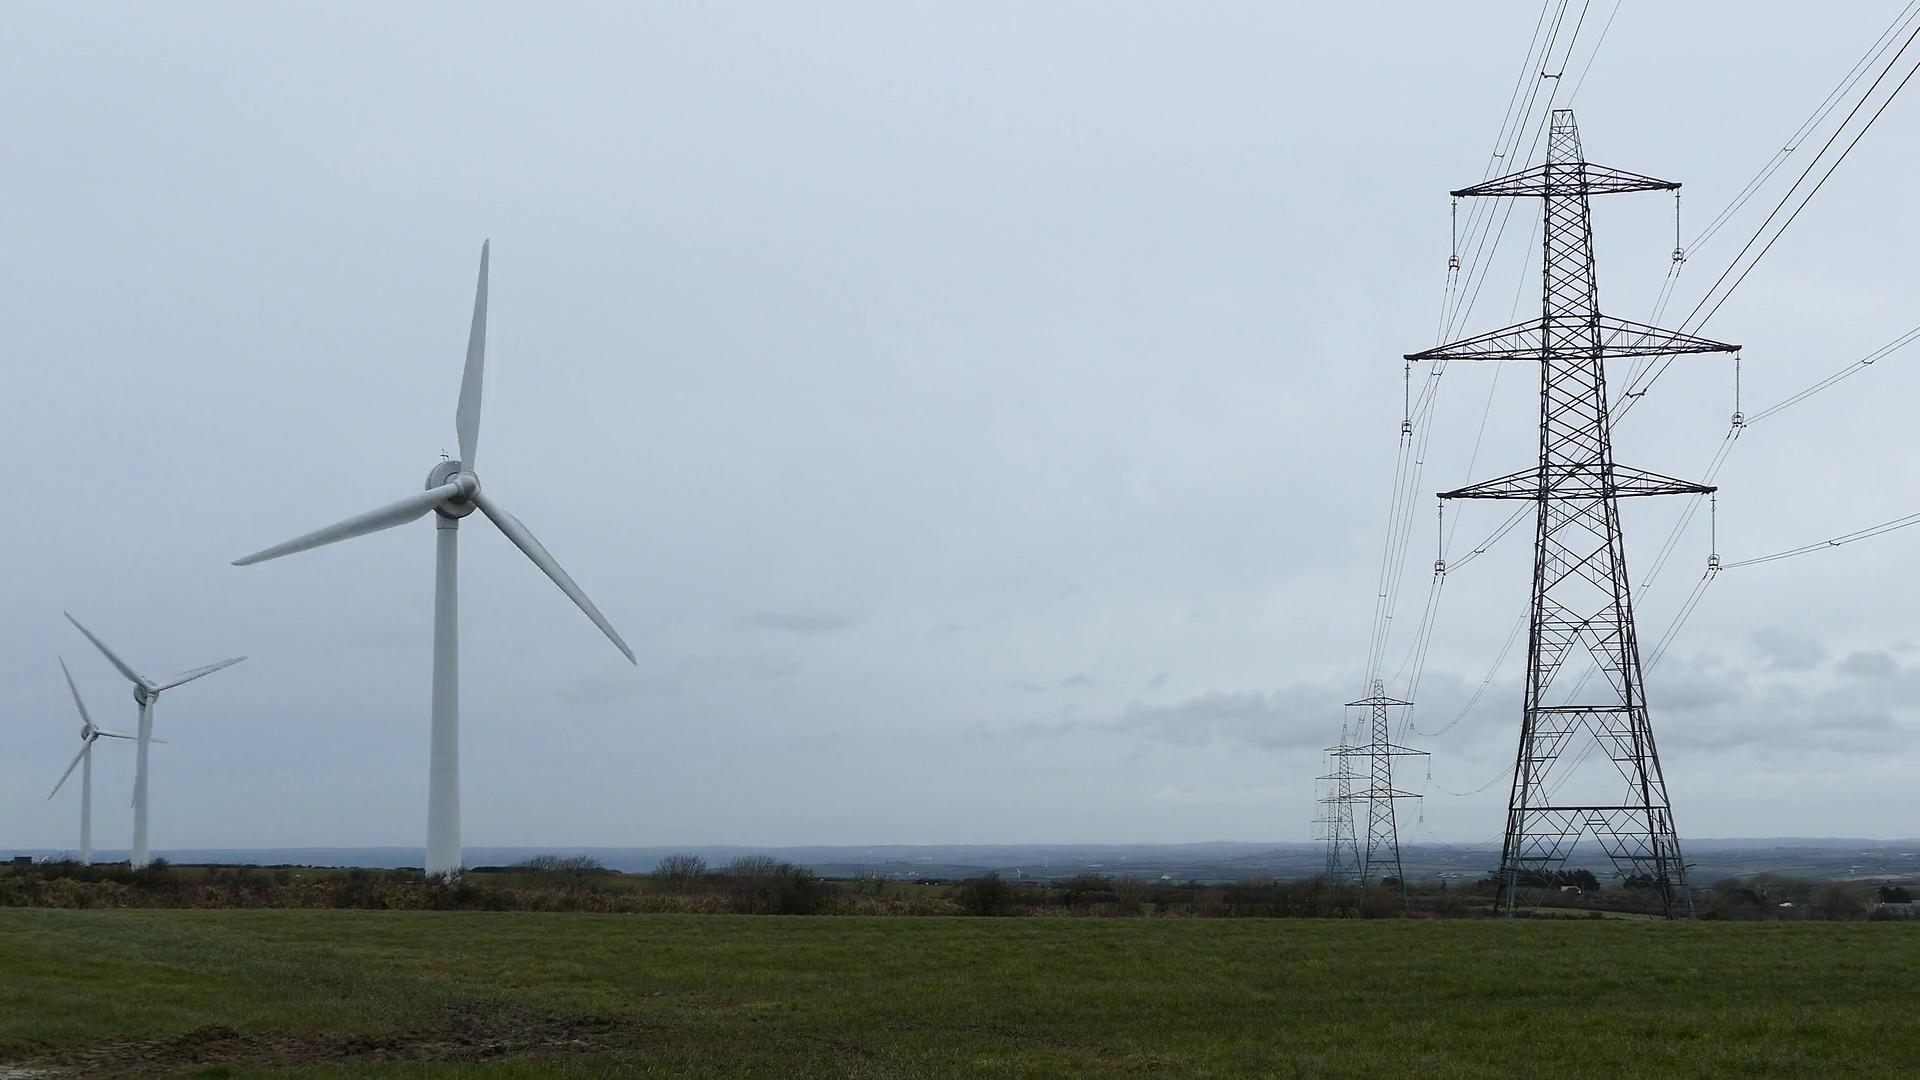cable tower: (1396, 105, 1741, 923), (1342, 679, 1428, 913), (1321, 735, 1370, 889), (1309, 793, 1353, 884)
turbine: (218, 175, 740, 949), (63, 579, 293, 918), (37, 633, 193, 887)
